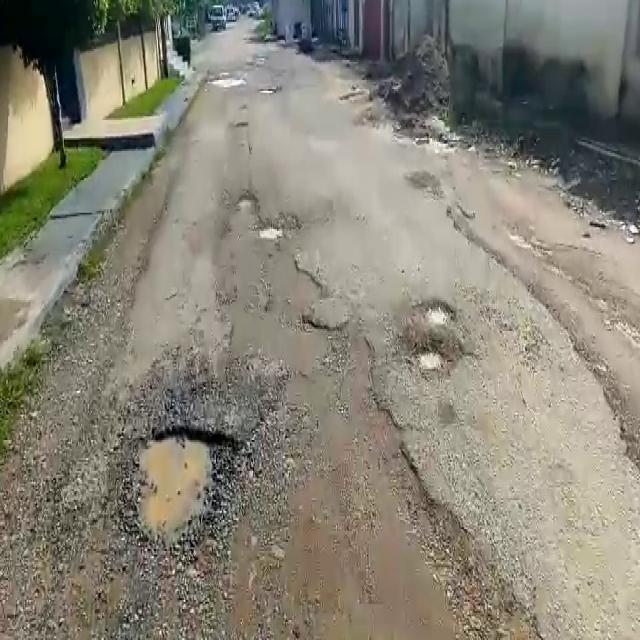pothole: (128, 427, 240, 555), (421, 302, 451, 329), (417, 349, 442, 373), (259, 220, 283, 242), (236, 194, 257, 211)
